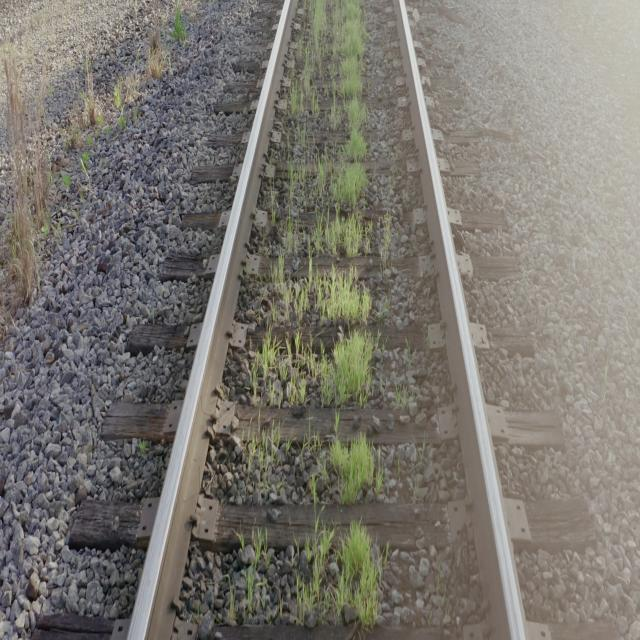Plant: (281, 0, 370, 253), (250, 258, 379, 409), (298, 522, 382, 629), (309, 418, 380, 504), (341, 520, 371, 580), (251, 433, 275, 462), (248, 569, 254, 609)
